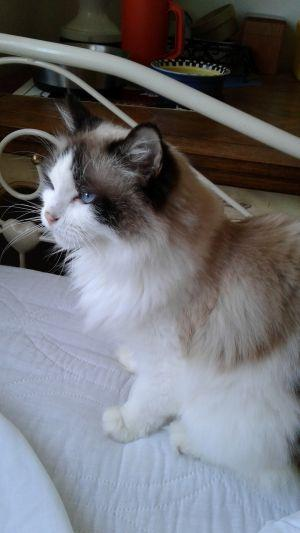ragdoll: (23, 80, 178, 264)
